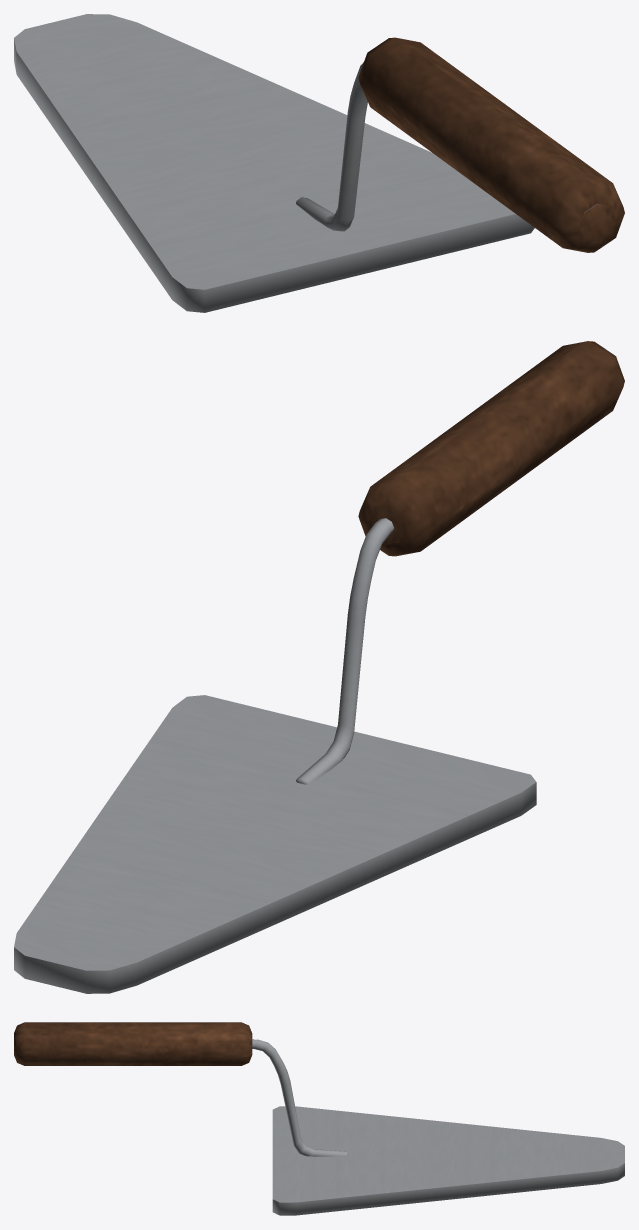
Rendered from trowel_1.fbx.
The picture shows the model from 3 angles, top to bottom: view 1: azimuth 30°, elevation 25°; view 2: azimuth 150°, elevation 25°; view 3: azimuth 270°, elevation 25°; orthographic projection. The views are drawn at different scales.
Parts seen in each view (by area): view 1: Plane.002; view 2: Plane.002; view 3: Plane.002.
Boxes of the visible parts, x1=… form: Plane.002: x1=14, y1=14, x2=624, y2=312; Plane.002: x1=14, y1=341, x2=624, y2=993; Plane.002: x1=14, y1=1022, x2=624, y2=1215.
Size of the model in its own units: 0.0793 by 0.0554 by 0.2127.
